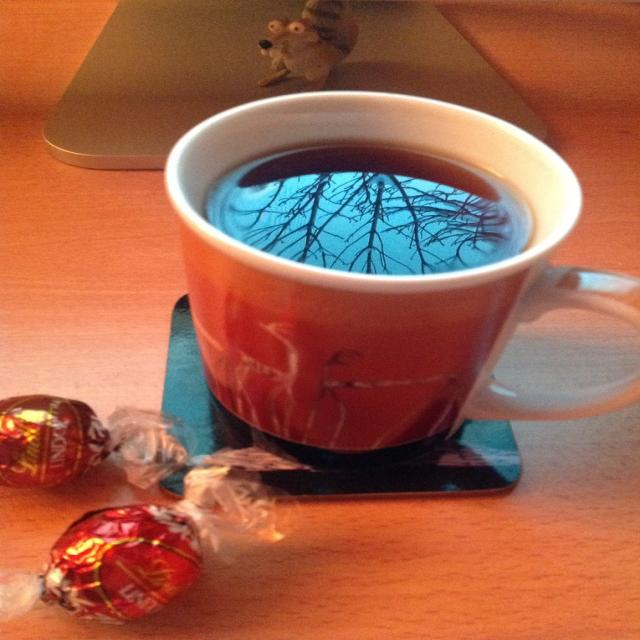Tea: (199, 139, 538, 273)
